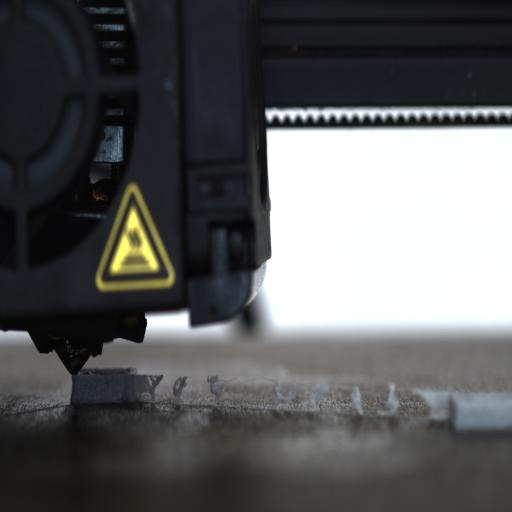stringing: (206, 373, 240, 401)
